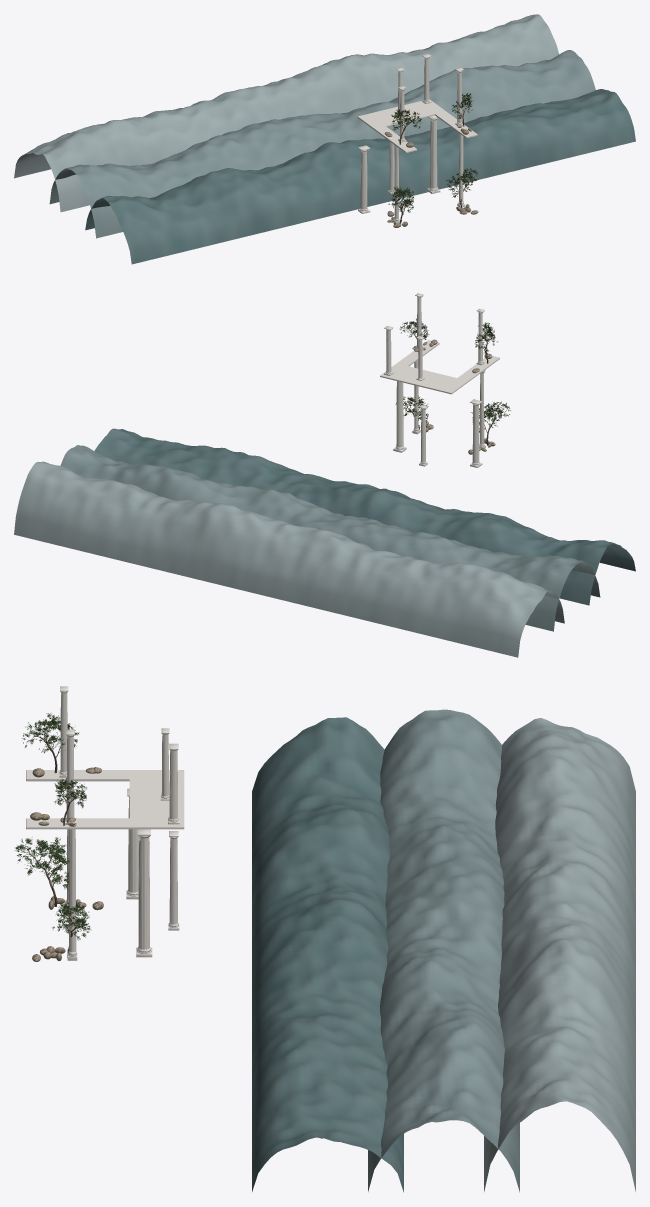
Rendered from architecture-v5.glb.
The picture shows the model from 3 angles, top to bottom: view 1: azimuth 30°, elevation 25°; view 2: azimuth 150°, elevation 25°; view 3: azimuth 270°, elevation 25°; orthographic projection. The views are drawn at different scales.
Visible parts, largest first — view 1: V51 / V5 / distant landscape 0, V51 / V5 / distant landscape 2, V51 / V5 / distant landscape 1, V51 / stone columns threshold, V51 / V51 / garden tree 02, V51 / garden limestone, V51 / V51 / garden tree 00, V51 / V51 / garden tree 03; view 2: V51 / V5 / distant landscape 2, V51 / V5 / distant landscape 0, V51 / V5 / distant landscape 1, V51 / stone columns threshold; view 3: V51 / V5 / distant landscape 0, V51 / V5 / distant landscape 2, V51 / V5 / distant landscape 1, V51 / stone columns threshold, V51 / V51 / garden tree 02, V51 / garden limestone, V51 / V51 / garden tree 00, V51 / V51 / garden tree 03.
Part boxes in pixels (bbox=[...]): V51 / V5 / distant landscape 0: bbox=[85, 89, 635, 264]; V51 / V5 / distant landscape 2: bbox=[14, 14, 558, 212]; V51 / V5 / distant landscape 1: bbox=[49, 50, 595, 238]; V51 / stone columns threshold: bbox=[357, 54, 477, 223]; V51 / V51 / garden tree 02: bbox=[388, 186, 413, 223]; V51 / garden limestone: bbox=[384, 119, 478, 227]; V51 / V51 / garden tree 00: bbox=[391, 109, 421, 144]; V51 / V51 / garden tree 03: bbox=[446, 168, 478, 207]; V51 / V5 / distant landscape 2: bbox=[14, 461, 564, 657]; V51 / V5 / distant landscape 0: bbox=[94, 428, 635, 605]; V51 / V5 / distant landscape 1: bbox=[60, 445, 600, 631]; V51 / stone columns threshold: bbox=[380, 293, 499, 467]; V51 / V5 / distant landscape 0: bbox=[252, 717, 403, 1192]; V51 / V5 / distant landscape 2: bbox=[484, 718, 635, 1191]; V51 / V5 / distant landscape 1: bbox=[368, 709, 519, 1192]; V51 / stone columns threshold: bbox=[26, 686, 184, 960]; V51 / V51 / garden tree 02: bbox=[14, 837, 69, 906]; V51 / garden limestone: bbox=[30, 767, 103, 961]; V51 / V51 / garden tree 00: bbox=[22, 713, 79, 773]; V51 / V51 / garden tree 03: bbox=[52, 900, 91, 957].
Size of the model in its own units: 450 by 145 by 295.
8 materials, 4 textured.
